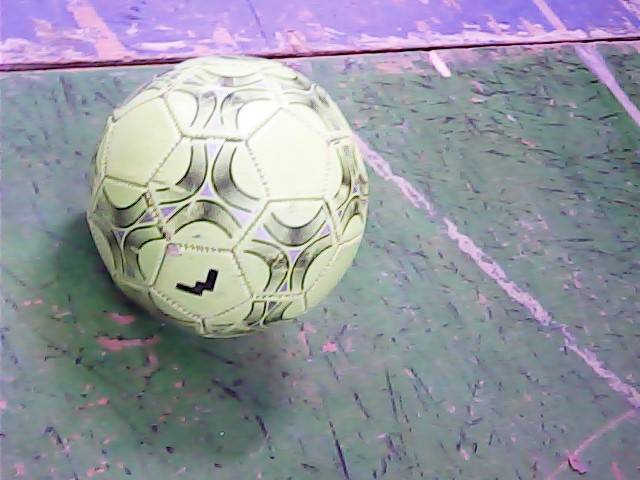Green_ball: (89, 33, 375, 337)
